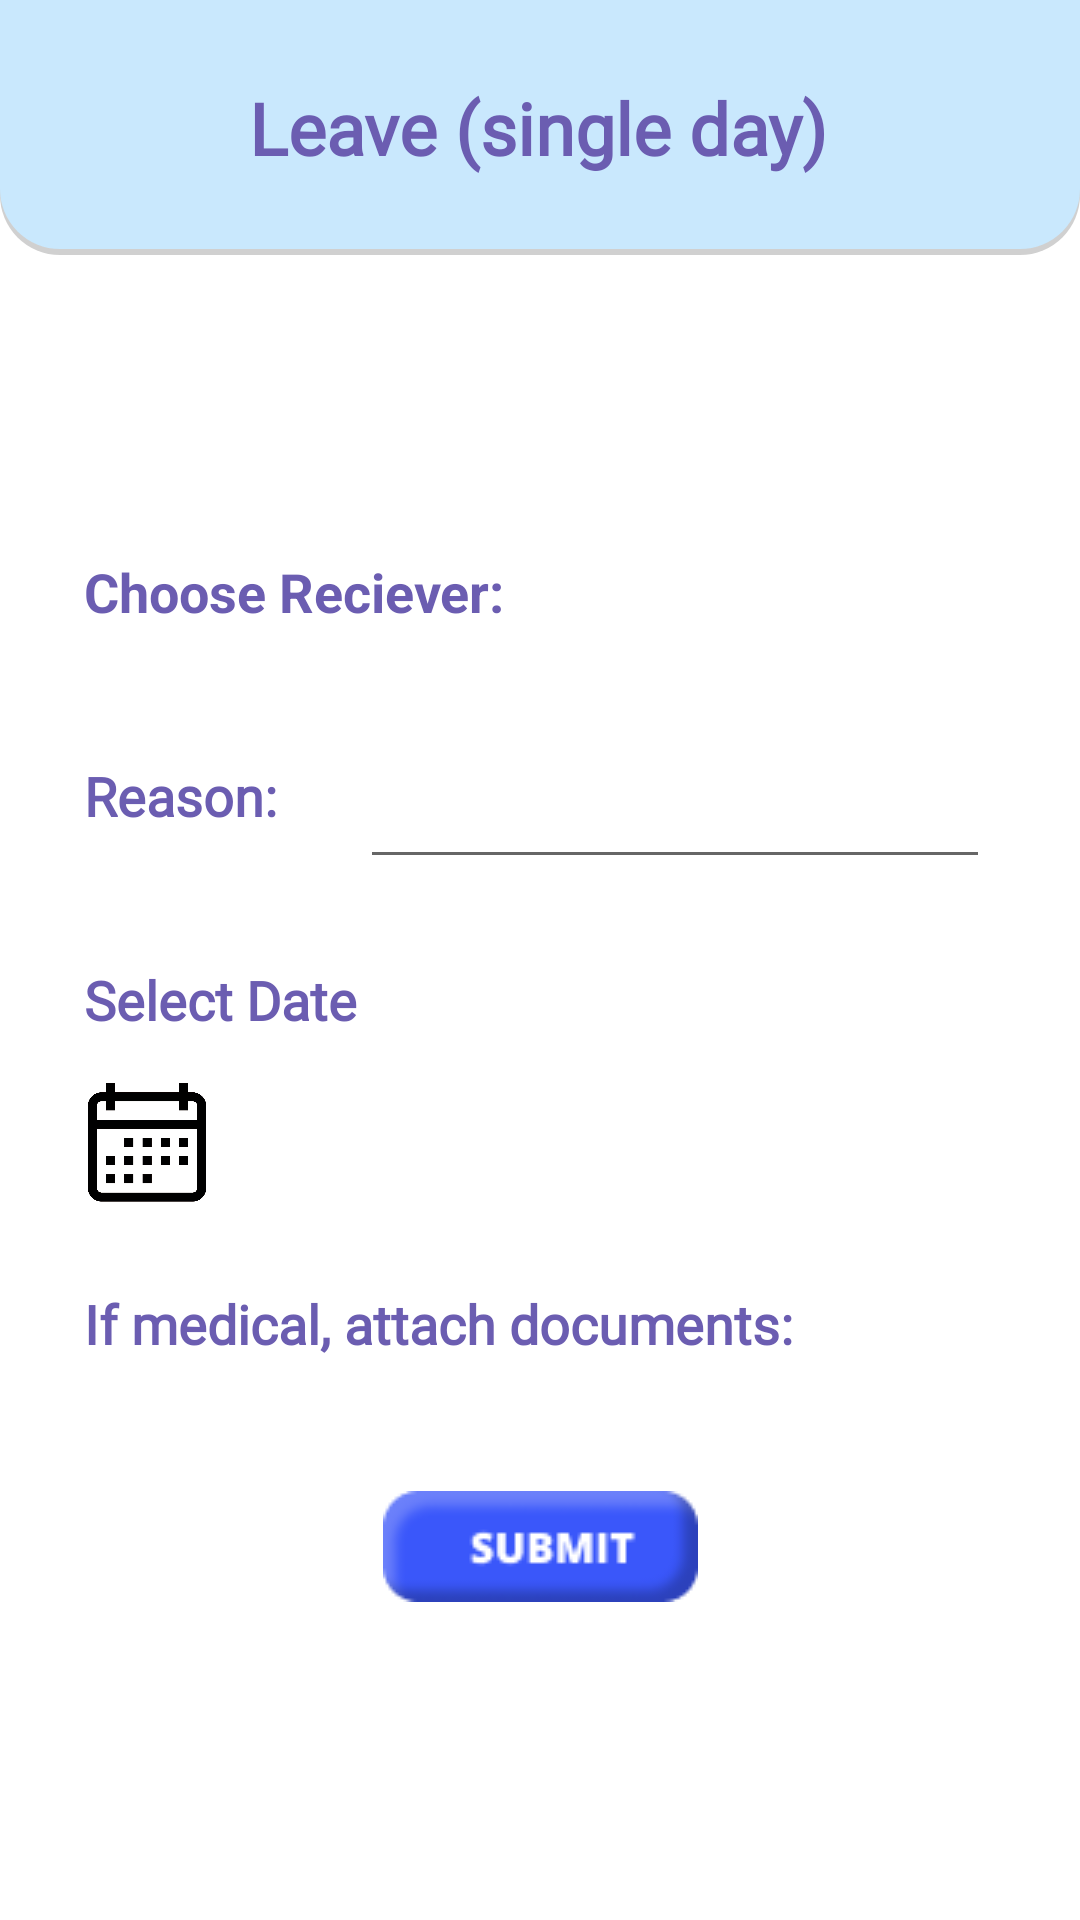

Icons on this 1080×1920 Android screen, each with the point to tap as point (x, y):
calendar: point (147, 1142)
